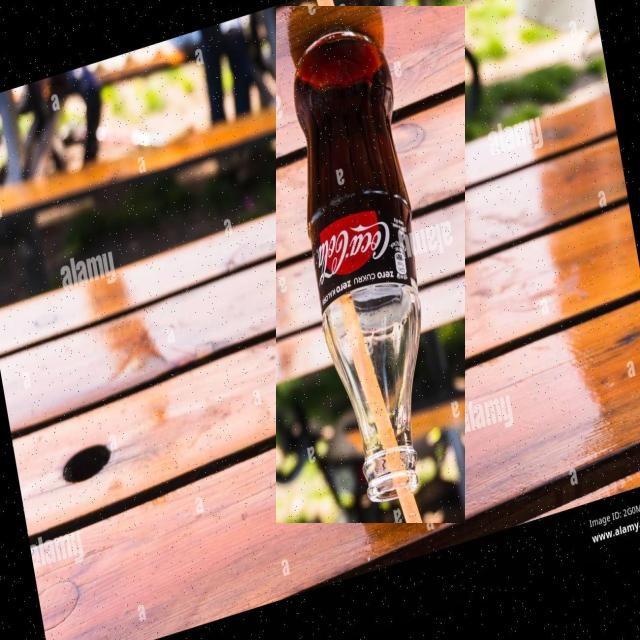coca-cola: (276, 6, 465, 523)
